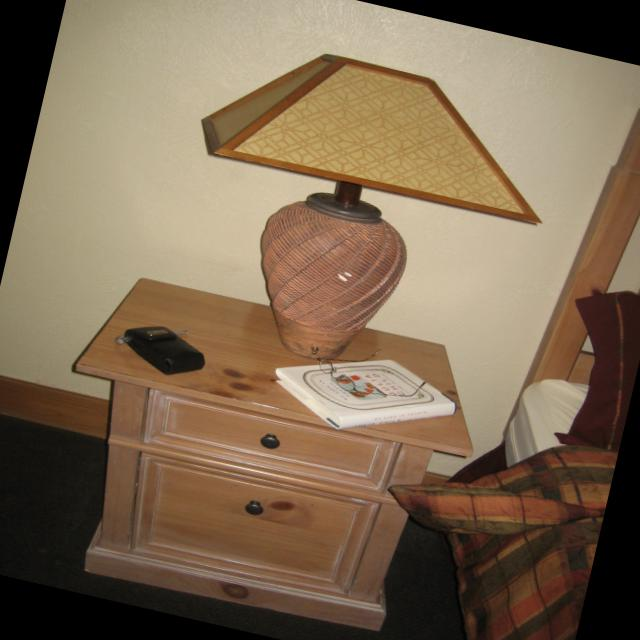bed frame: (391, 105, 640, 640)
book case: (273, 358, 456, 431)
case: (122, 323, 204, 374)
eyeglasses: (310, 346, 428, 400)
floor -X: (0, 414, 594, 640)
lamp crop: (199, 54, 544, 361)
